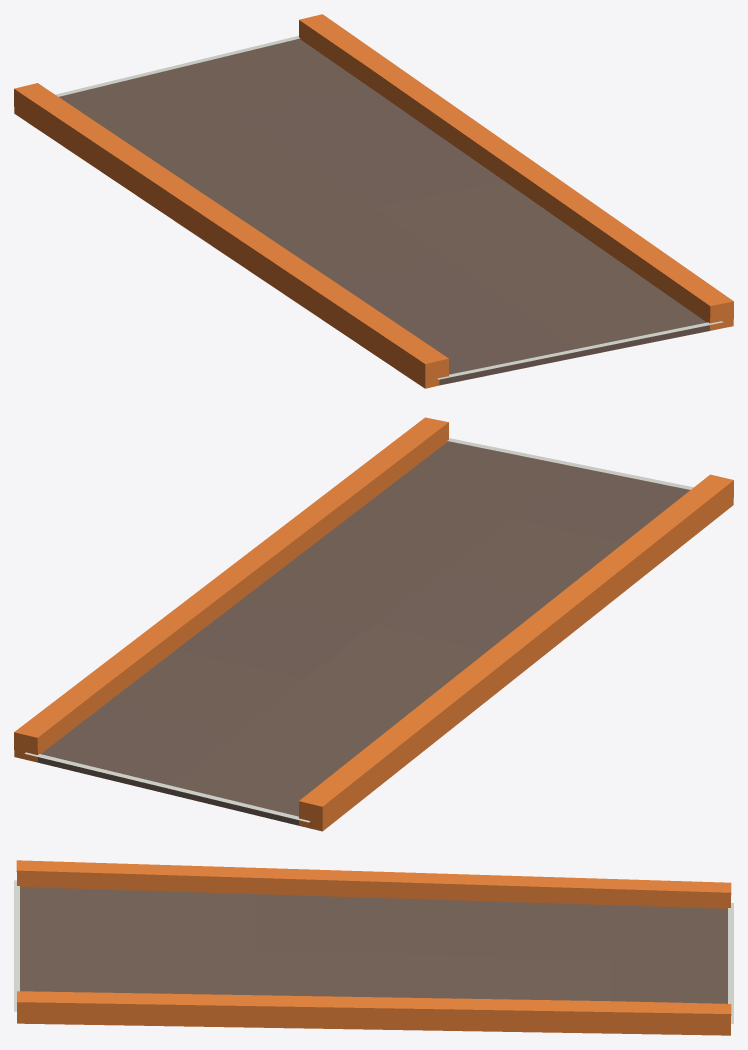
File: SM_MP_Film_B_0_0.fbx
3 renders of one model, top to bottom at view 1: azimuth 30°, elevation 25°; view 2: azimuth 150°, elevation 25°; view 3: azimuth 270°, elevation 25°, orthographic. The views are drawn at different scales.
Parts seen in each view (by area): view 1: SM_MP_Film_B_0_0; view 2: SM_MP_Film_B_0_0; view 3: SM_MP_Film_B_0_0.
Part boxes in pixels (x1=…): SM_MP_Film_B_0_0: x1=14, y1=14, x2=733, y2=388; SM_MP_Film_B_0_0: x1=14, y1=417, x2=733, y2=831; SM_MP_Film_B_0_0: x1=14, y1=860, x2=733, y2=1035.
Size of what is drawn, in the model's own units: 260 by 605 by 41.31.
